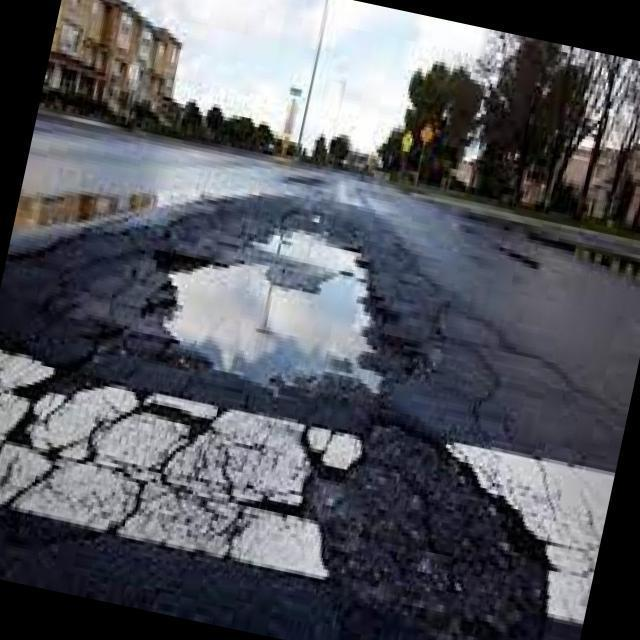Pothole: (90, 232, 430, 432)
